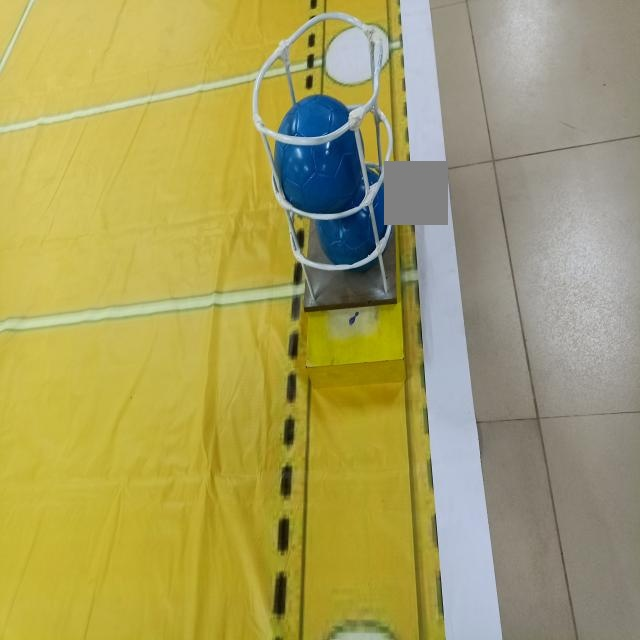blue_ball: (276, 97, 361, 215), (322, 172, 390, 267)
silo: (253, 14, 405, 347)
